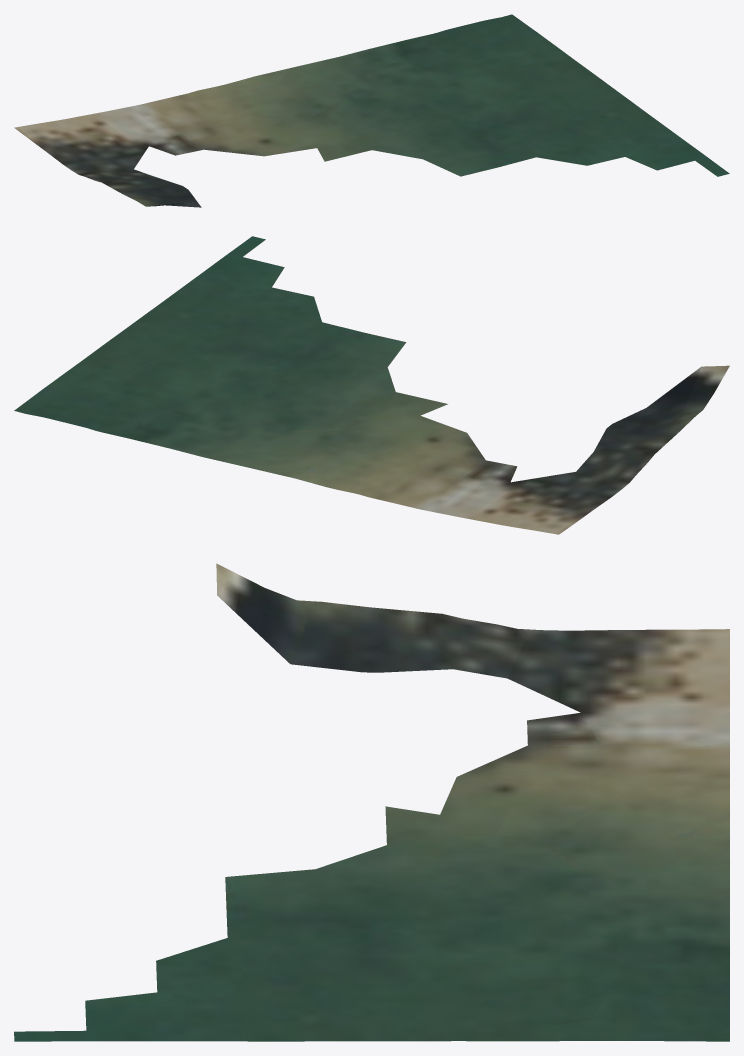
The picture shows the model from 3 angles, top to bottom: view 1: azimuth 30°, elevation 25°; view 2: azimuth 150°, elevation 25°; view 3: azimuth 270°, elevation 25°; orthographic projection. The views are drawn at different scales.
Size of the model in its own units: 52.22 by 4.9 by 39.59.
Materials: 1 (1 with a texture image).
